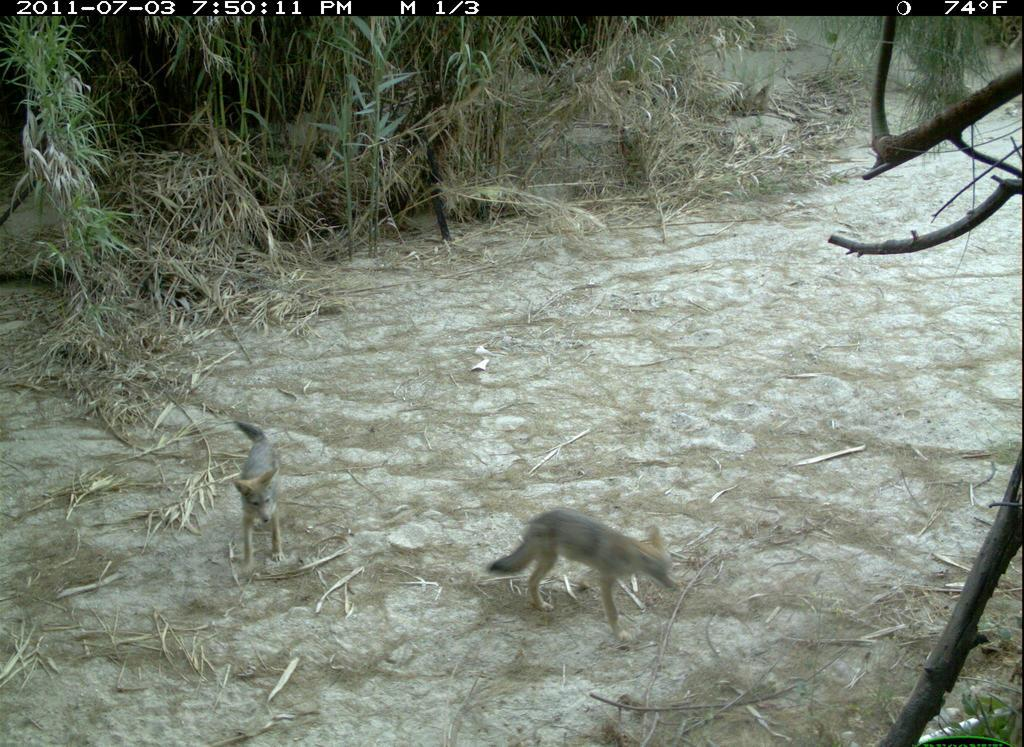coyote: (484, 504, 689, 655), (223, 406, 301, 579)
